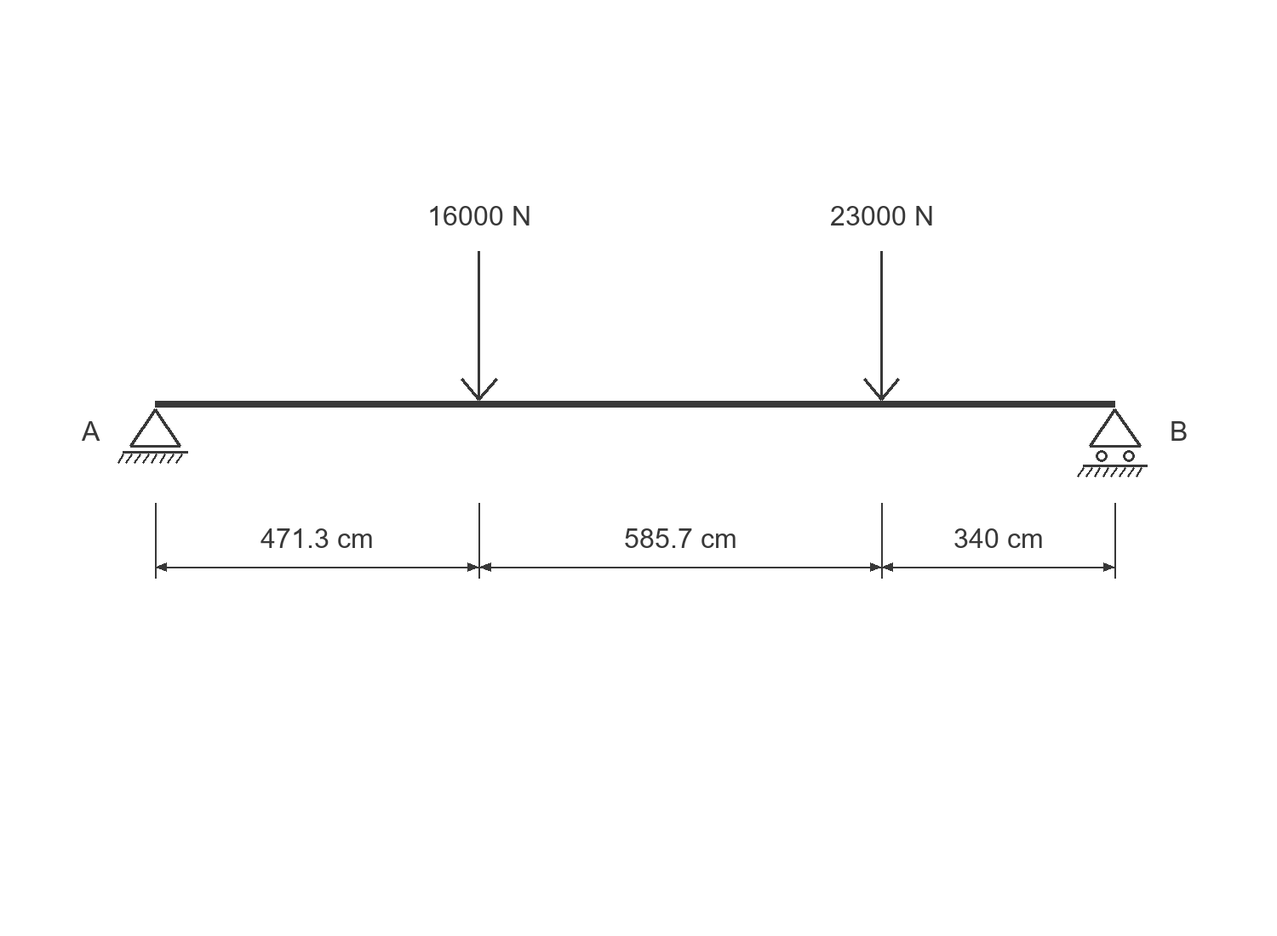pin_support: (117, 408, 188, 464)
point_load: (461, 251, 498, 401), (863, 251, 900, 401)
roller_support: (1077, 408, 1148, 477)
